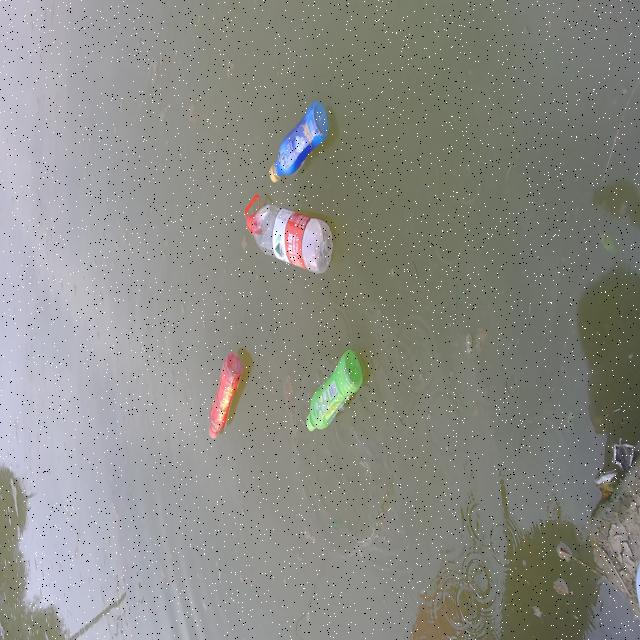Bottle: (236, 193, 332, 285), (305, 346, 363, 449), (268, 97, 332, 190), (207, 347, 244, 449)
